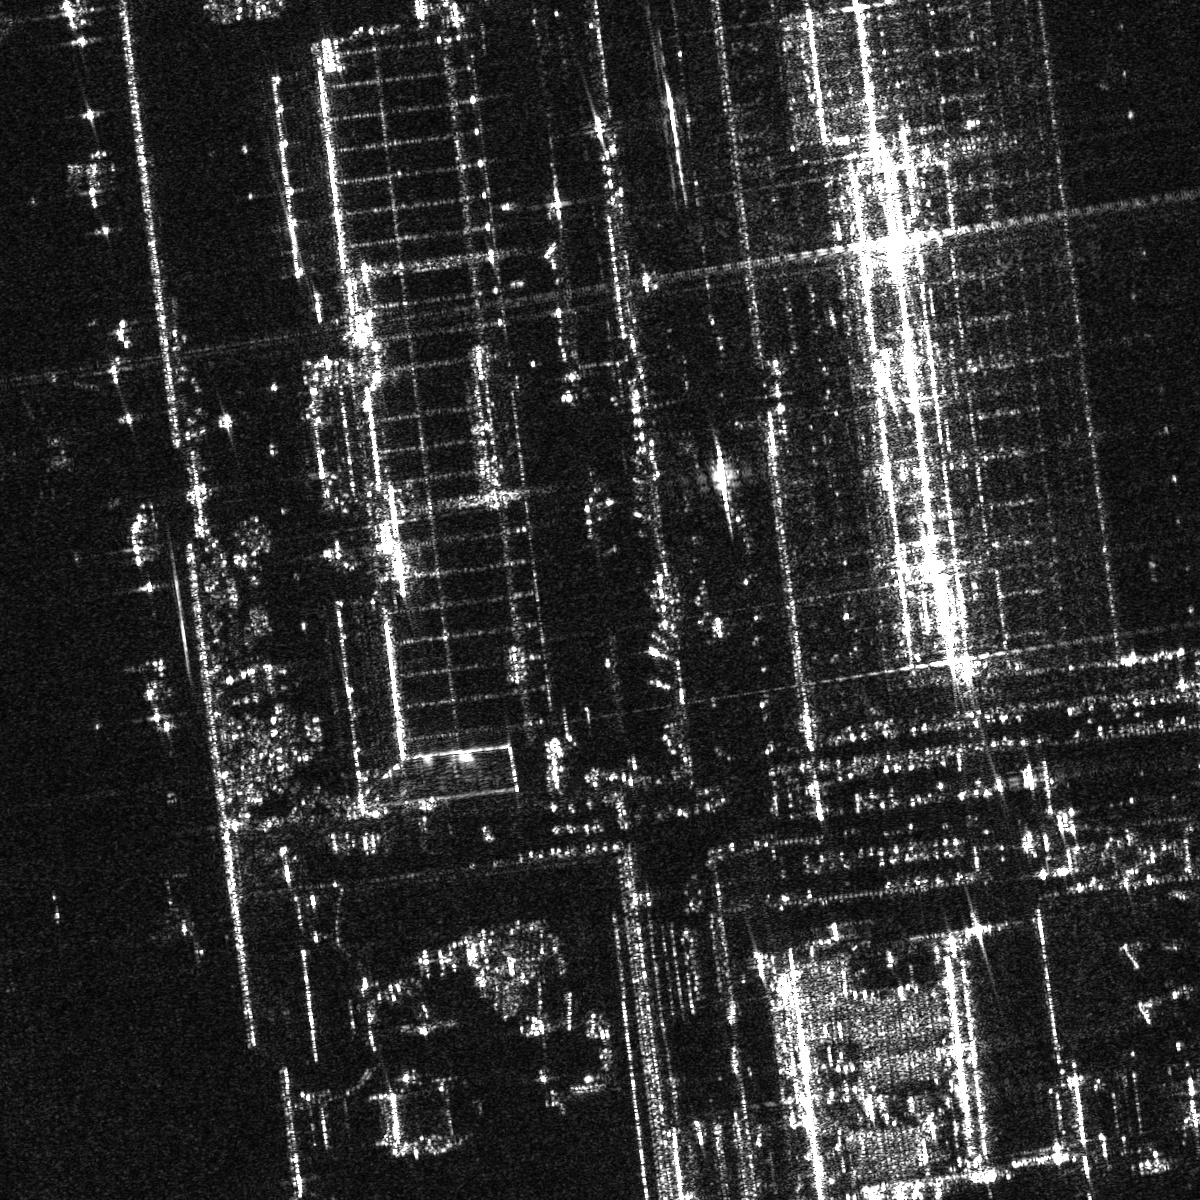Boeing787: (1, 402, 91, 511)
